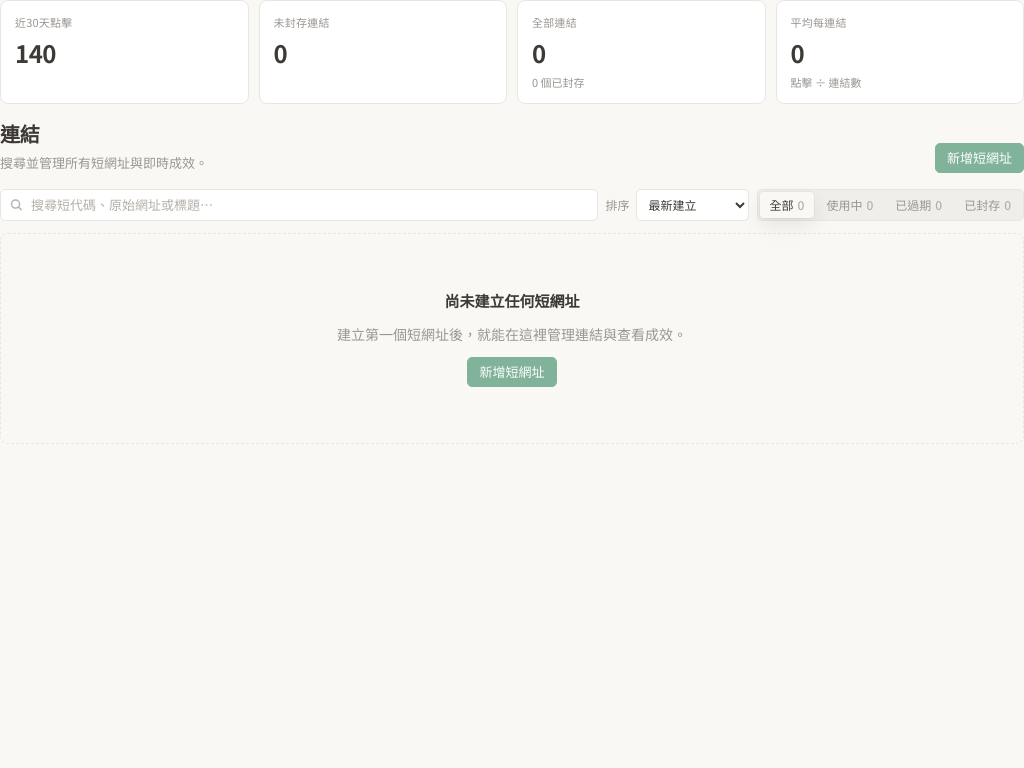
DashboardView › renders the empty state when the account genuinely has no URLs
Click the button with test id "empty-open-create" at (512, 372), box left=468, top=357, right=556, bottom=387
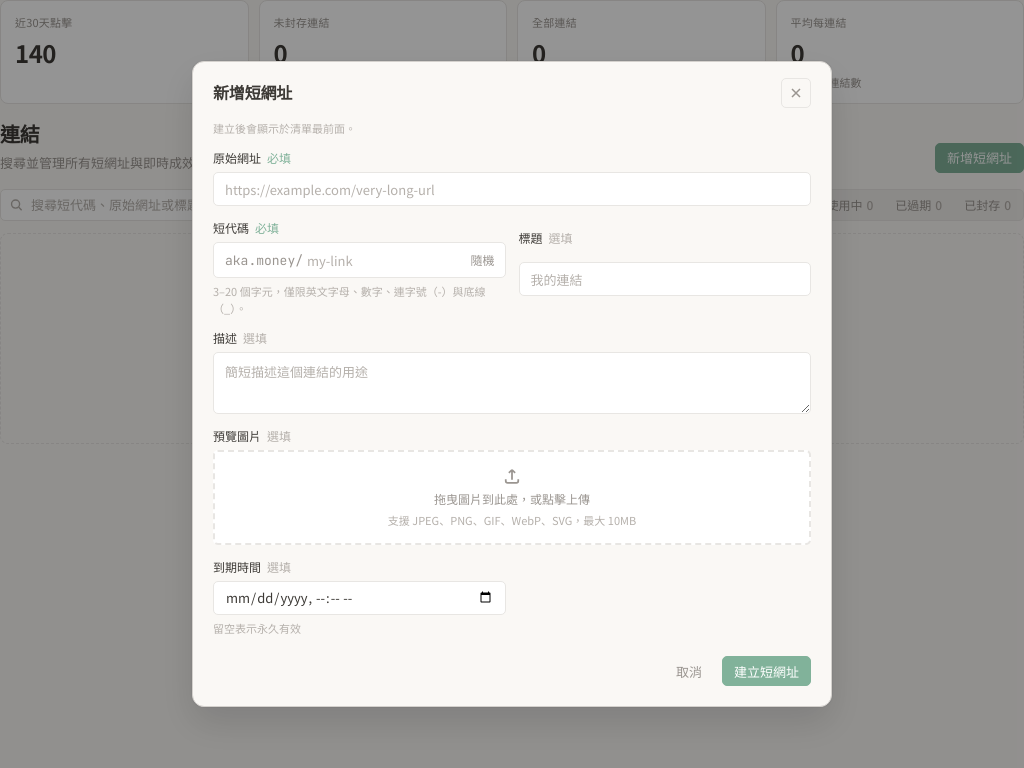
Expected: the dialog shows "新增短網址", left=213, top=83, right=292, bottom=103
Expected: the field labelled "原始網址 必填" is shown, left=213, top=172, right=811, bottom=206
